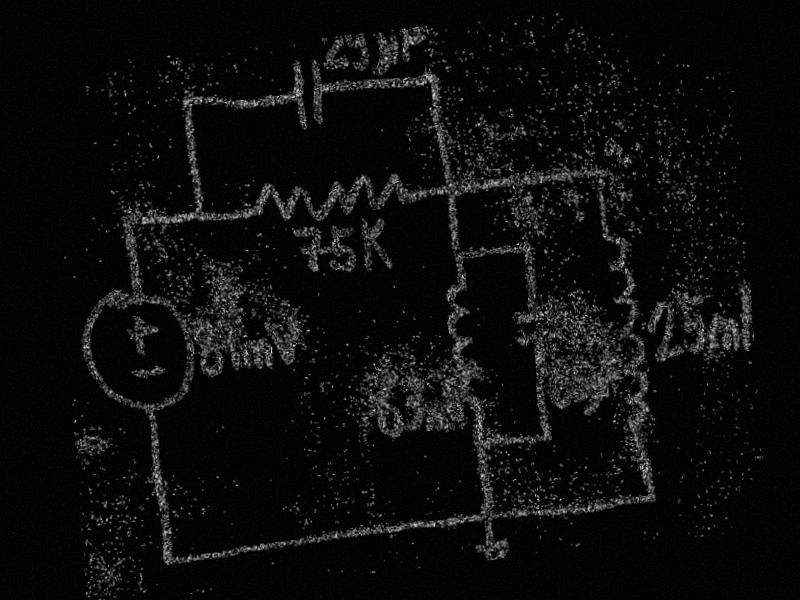2: (645, 295, 686, 368), (316, 35, 351, 76)
3: (399, 376, 430, 435)
5: (676, 289, 709, 359), (327, 222, 360, 280), (570, 359, 591, 404)
6: (371, 366, 406, 442)
7: (287, 220, 333, 284)
8: (191, 317, 228, 386), (546, 354, 574, 412)
9: (344, 32, 375, 75)
F: (398, 26, 429, 65), (599, 357, 620, 401)
H: (737, 283, 755, 352), (443, 392, 466, 433)
V: (271, 315, 308, 368)
k: (356, 211, 396, 278)
m: (227, 332, 276, 375), (704, 310, 743, 360), (423, 407, 450, 433)
u: (373, 31, 403, 77), (587, 373, 605, 415)
